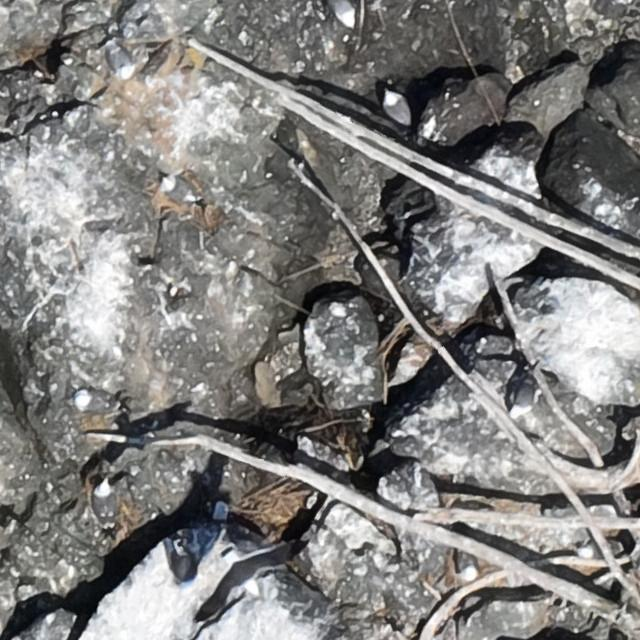F: (206, 534, 306, 614)
umineko: (508, 374, 546, 424), (578, 537, 626, 566), (460, 543, 483, 588), (163, 179, 195, 205), (386, 92, 410, 124), (76, 394, 114, 413), (330, 2, 354, 27), (96, 484, 113, 517)
